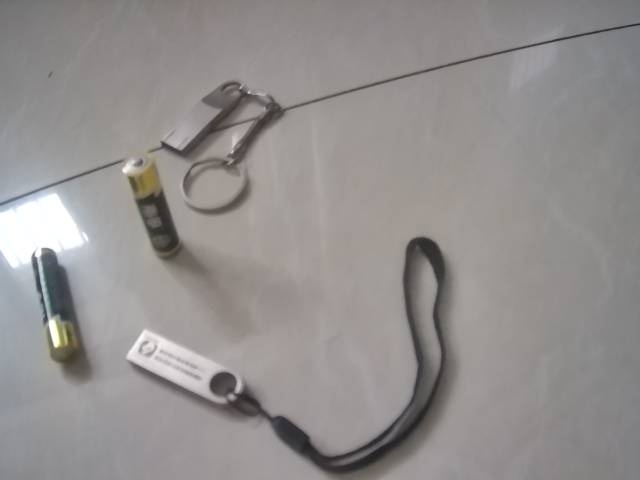U-disk: (120, 319, 335, 465), (160, 77, 286, 207)
battery: (26, 242, 88, 365), (119, 150, 185, 260)
